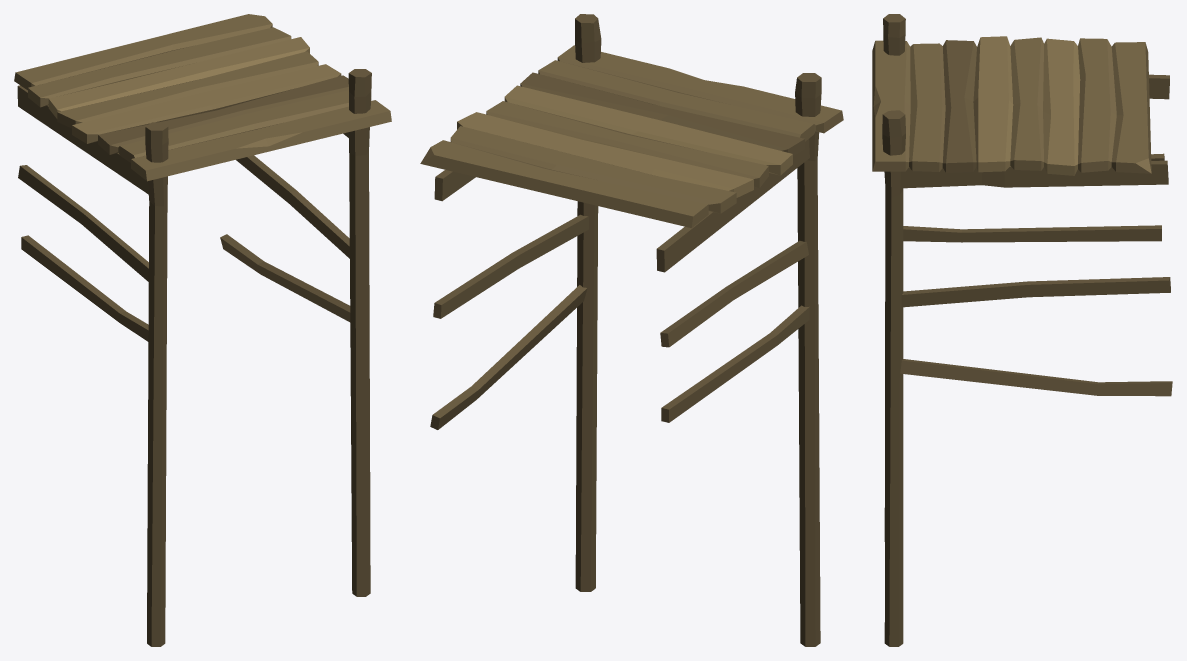
The model's file is Dock_4.fbx.
3 renders of one model, left to right at view 1: azimuth 30°, elevation 25°; view 2: azimuth 150°, elevation 25°; view 3: azimuth 270°, elevation 25°, orthographic. The views are drawn at different scales.
Visible parts, largest first — view 1: Dock_4; view 2: Dock_4; view 3: Dock_4.
Boxes of the visible parts, x1,y1,x2,y2 form: Dock_4: [14, 14, 391, 646]; Dock_4: [420, 14, 843, 646]; Dock_4: [872, 14, 1172, 646].
Size of the model in its own units: 355 by 674 by 347.
